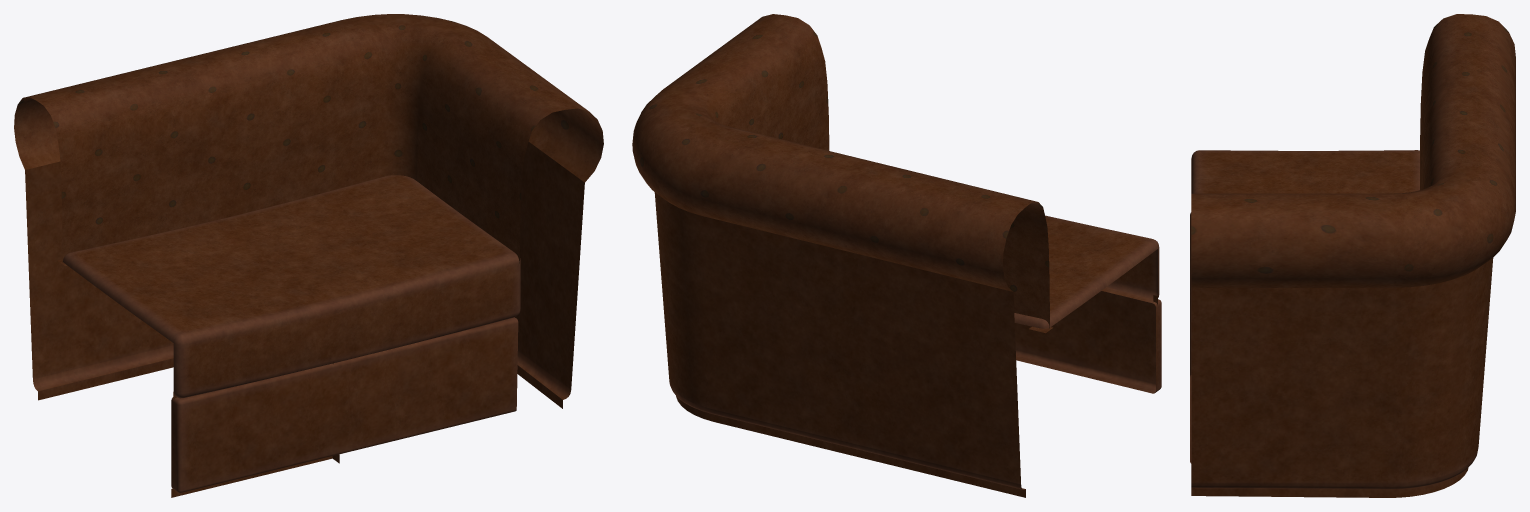
File: SofaRetro01_6.FBX
3 renders of one model, left to right at view 1: azimuth 30°, elevation 25°; view 2: azimuth 150°, elevation 25°; view 3: azimuth 270°, elevation 25°, orthographic. The views are drawn at different scales.
Parts seen in each view (by area): view 1: SofaRetro01_6; view 2: SofaRetro01_6; view 3: SofaRetro01_6.
Part boxes in pixels (x1,y1,x2,y2): SofaRetro01_6: (14,14,603,497); SofaRetro01_6: (632,14,1161,497); SofaRetro01_6: (1190,14,1515,497).
Size of the model in its own units: 1502 by 1007 by 1004.
